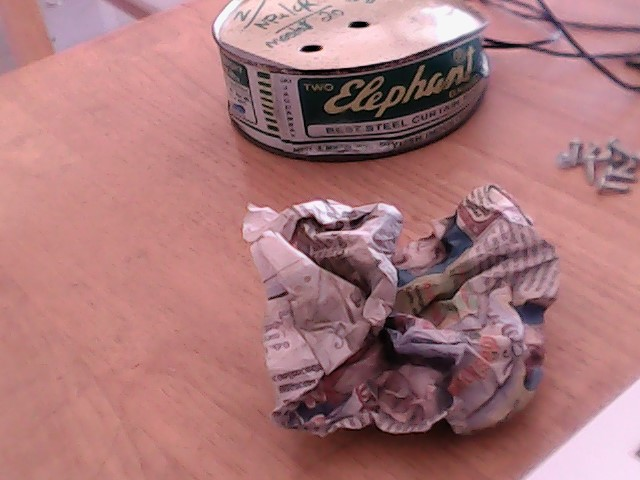Metal: (196, 2, 481, 140)
paper: (242, 178, 568, 463)
